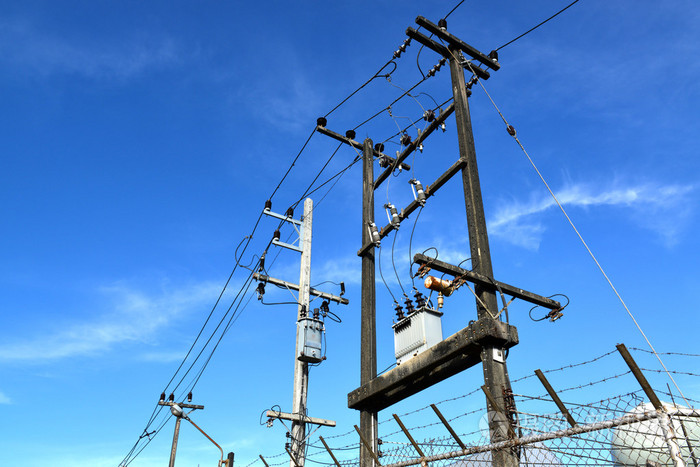insulator: (394, 37, 410, 61), (428, 58, 446, 78)
